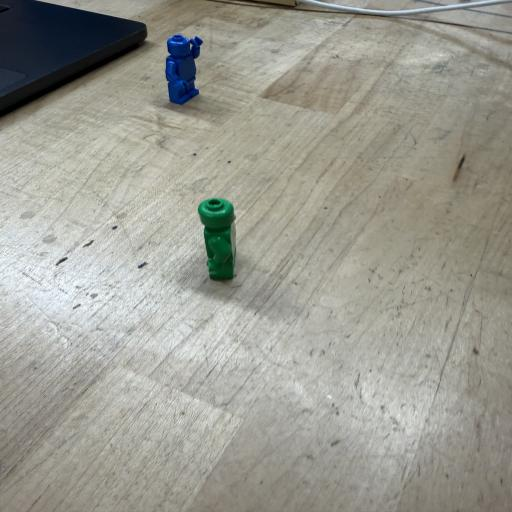blue-minifig: (166, 34, 202, 104)
green-minifig: (198, 198, 236, 279), (220, 212, 230, 246)
